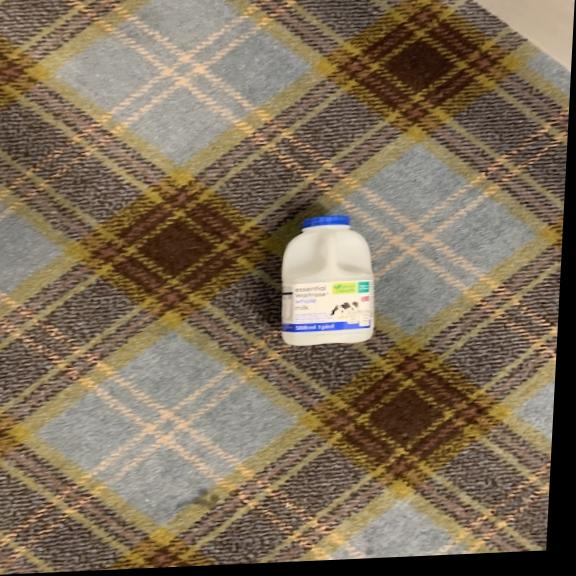Plastik: (272, 210, 388, 351)
